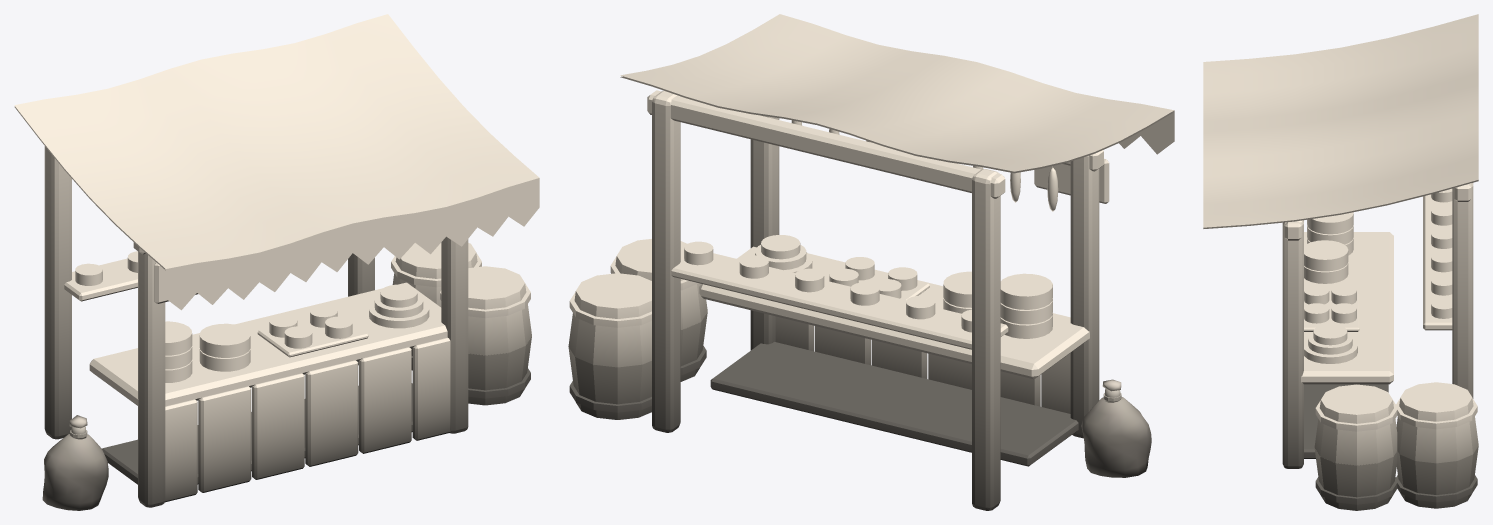
Rendered from SM_VK_MarketStall_Cheese.fbx.
The picture shows the model from 3 angles, left to right: view 1: azimuth 30°, elevation 25°; view 2: azimuth 150°, elevation 25°; view 3: azimuth 270°, elevation 25°; orthographic projection. The views are drawn at different scales.
Visible parts, largest first — view 1: SM_VK_MarketStall_Cheese.001; view 2: SM_VK_MarketStall_Cheese.001; view 3: SM_VK_MarketStall_Cheese.001.
Boxes of the visible parts, x1,y1,x2,y2 form: SM_VK_MarketStall_Cheese.001: [14, 14, 539, 510]; SM_VK_MarketStall_Cheese.001: [568, 14, 1174, 510]; SM_VK_MarketStall_Cheese.001: [1203, 14, 1478, 510].
Size of the model in its own units: 4.87 by 3.17 by 2.6.
